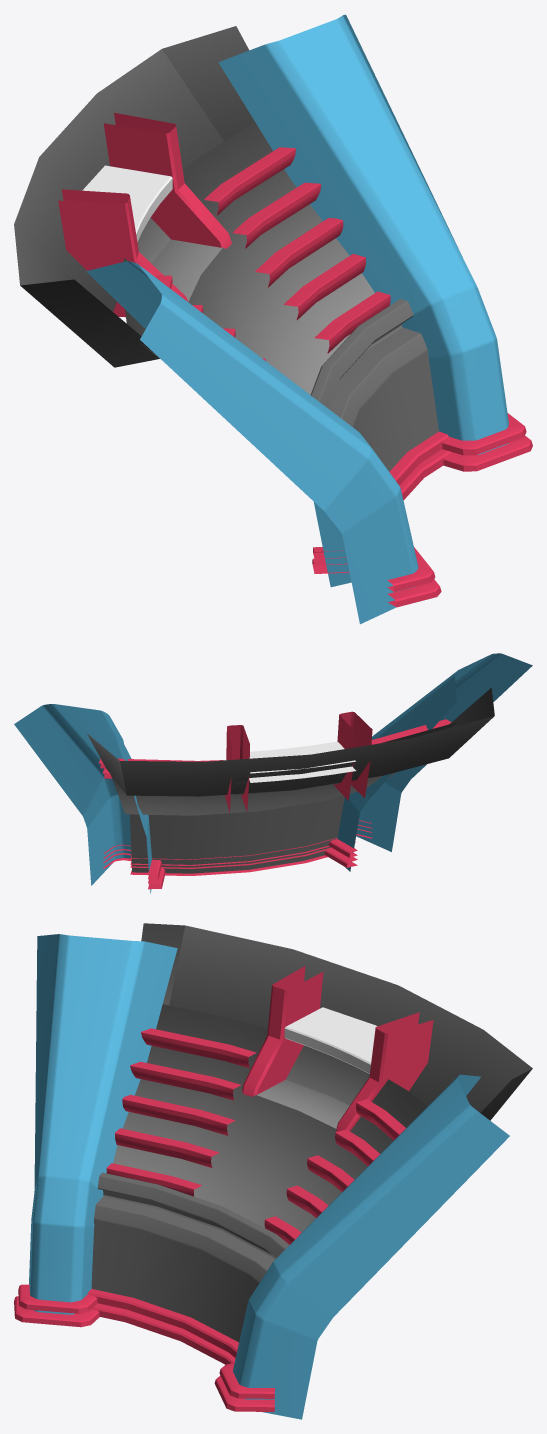
Rendered from SMrinkWallCornV0.2.fbx.
3 views of the same model, one above another, from view 1: azimuth 30°, elevation 25°; view 2: azimuth 150°, elevation 25°; view 3: azimuth 270°, elevation 25° (orthographic). The views are drawn at different scales.
Parts seen in each view (by area): view 1: SMrinkWallCorn1; view 2: SMrinkWallCorn1; view 3: SMrinkWallCorn1.
Boxes of the visible parts, box(x1,y1,x2,y2) form: SMrinkWallCorn1: box(14, 14, 532, 624); SMrinkWallCorn1: box(14, 653, 532, 893); SMrinkWallCorn1: box(14, 923, 532, 1419).
Bounding box in the file's own units: 2032 × 1266 × 2001.
